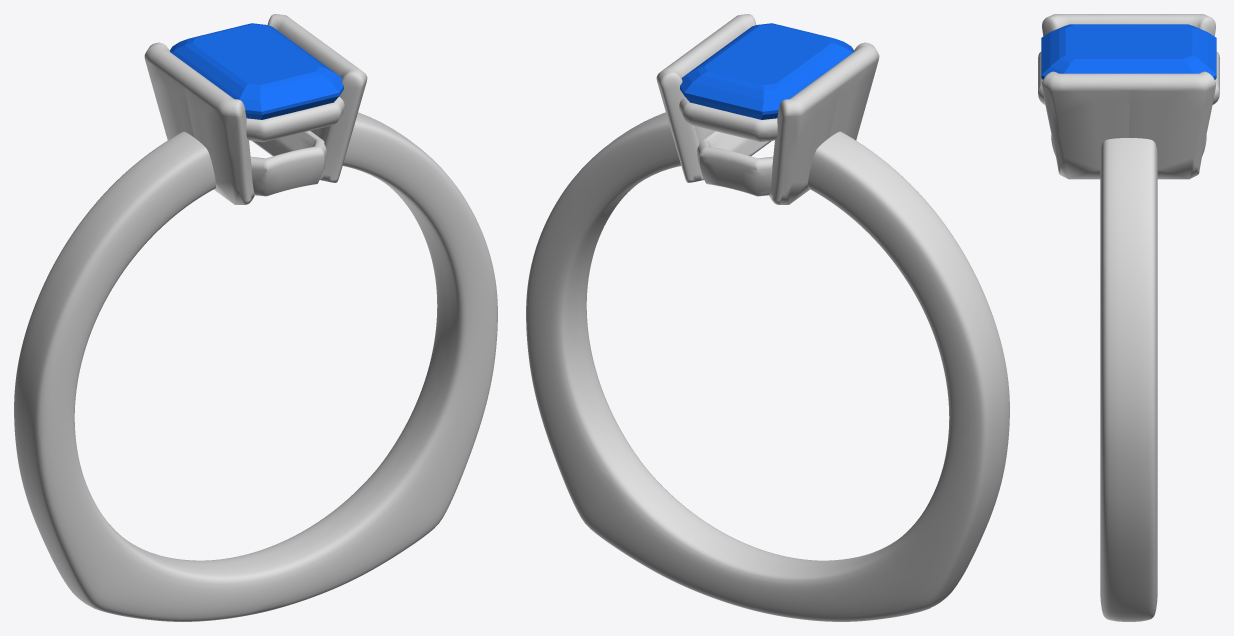
File: bluesapphire-emerald-platinum-halfmoonbezel-europeanshank-solitaire.glb
3 views of the same model, side by side, from view 1: azimuth 30°, elevation 25°; view 2: azimuth 150°, elevation 25°; view 3: azimuth 270°, elevation 25° (orthographic).
Parts seen in each view (by area): view 1: metal, stone; view 2: metal, stone; view 3: metal, stone.
Part boxes in pixels (x1,y1,x2,y2): metal: [14, 14, 497, 621]; stone: [170, 23, 343, 119]; metal: [526, 14, 1009, 621]; stone: [680, 23, 853, 119]; metal: [1038, 14, 1219, 621]; stone: [1041, 24, 1216, 79].
Size of the model in its own units: 20.11 by 22.74 by 6.94.
